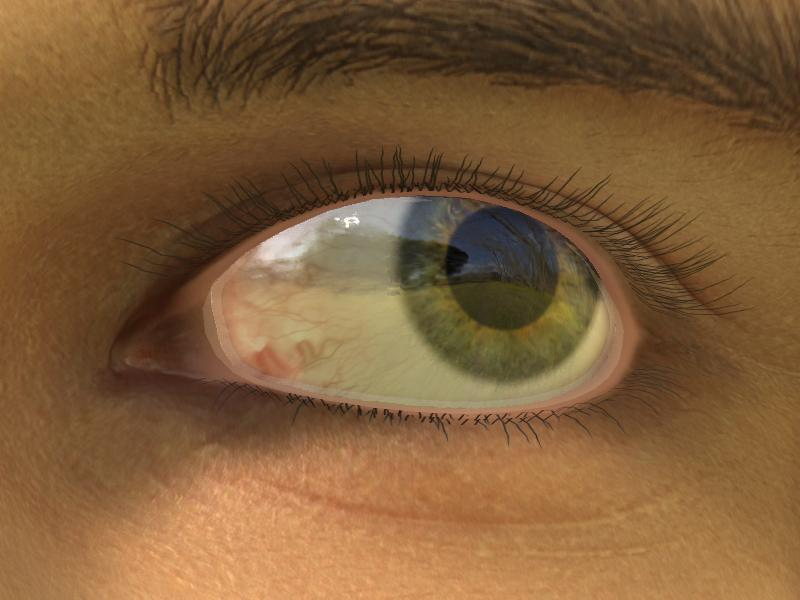eye: (396, 193, 597, 376)
